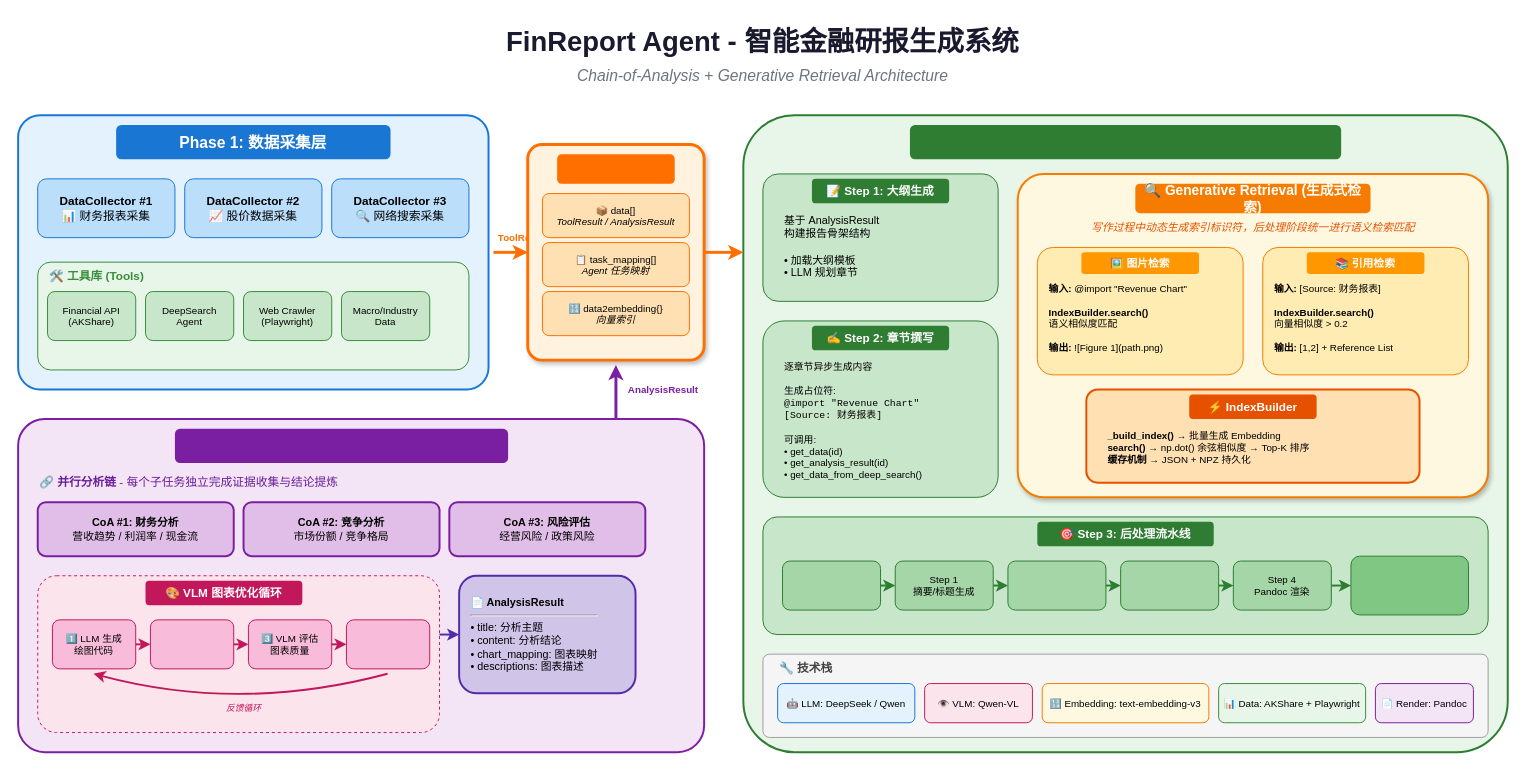
The diagram is 1525 pixels wide and 769 high, and some of its shapes have lost their labels. Each missing label, with the centre of its shape:
2️⃣ 执行代码 生成图表: the point at 191,644
4️⃣ 迭代改进 (max 3轮): the point at 387,644
Phase 2: Chain-of-Analysis (分析链): the point at 341,445
Phase 3: Report Generation + Generative Retrieval: the point at 1125,141
Step 0 图片路径替换: the point at 831,585
Step 2 封面/基础数据: the point at 1056,585
Step 3 引用替换: the point at 1169,585
📄 .md 📝 .docx 📕 .pdf: the point at 1409,585
🧠 Memory: the point at 615,168
